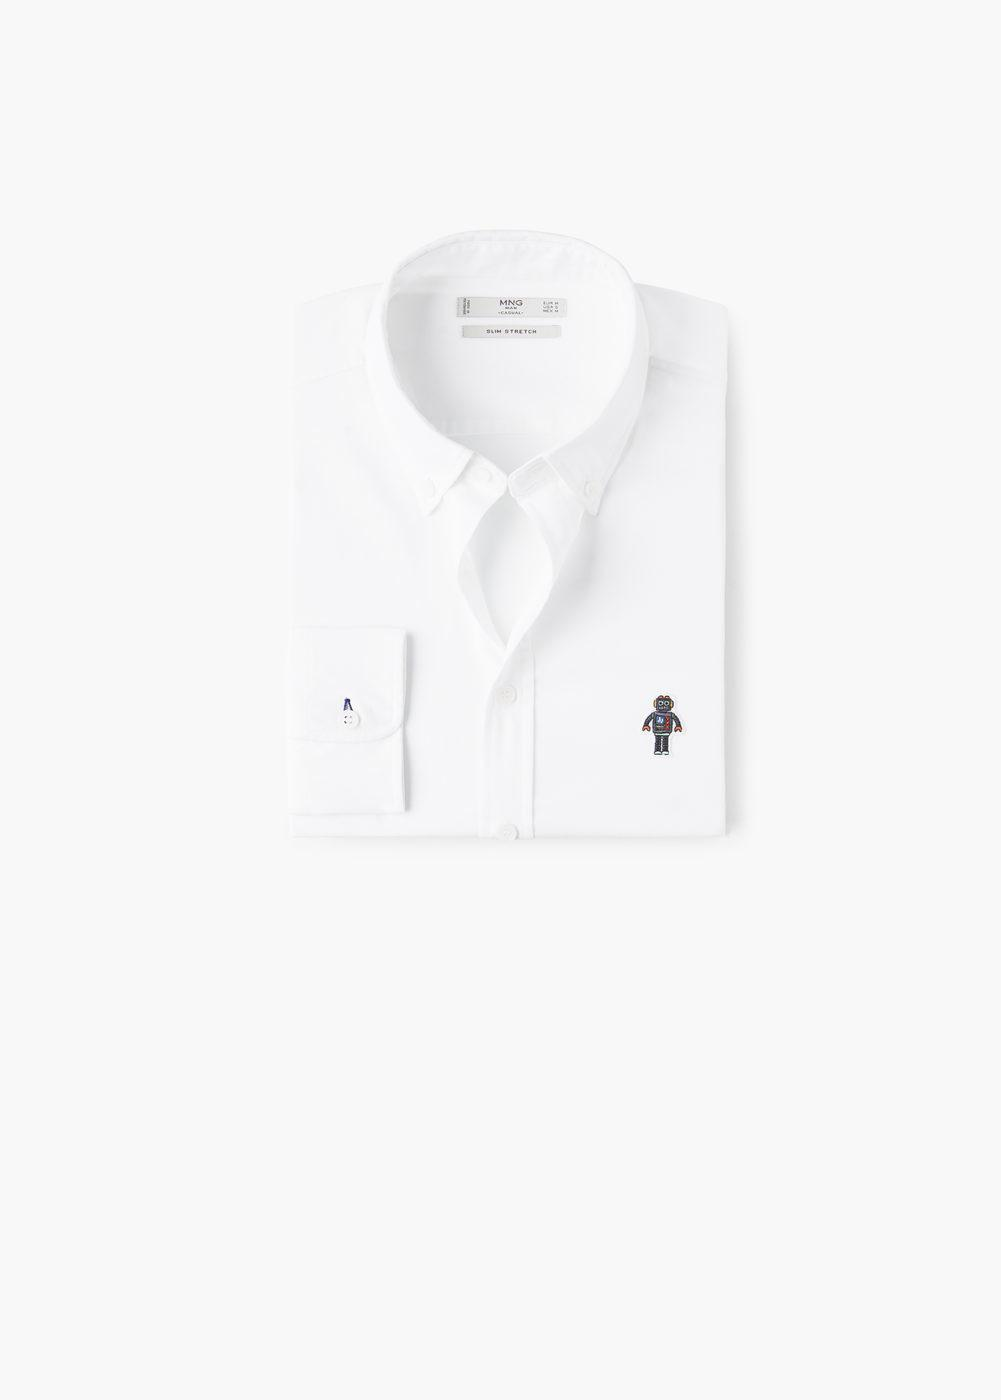teeshirt: (244, 231, 767, 869)
